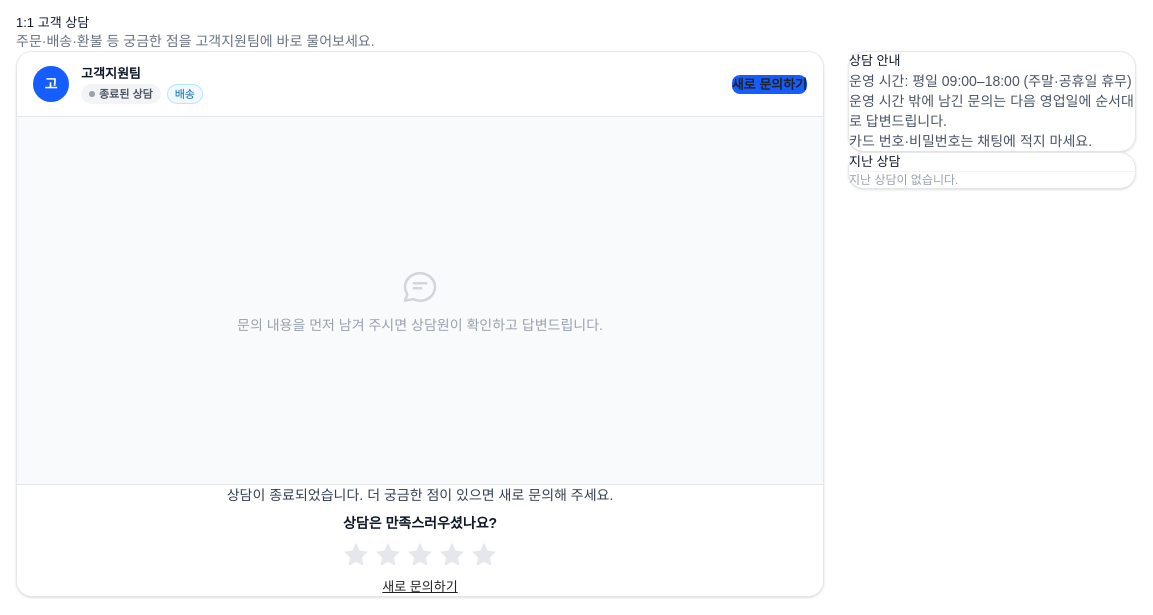
Scenario: SupportRoom — 고객 상담 화면 › '새로 문의하기' 를 누르면 유형을 다시 고르는 화면으로 간다(바로 열지 않는다)
The image size is (1153, 615).
Click the button "새로 문의하기" in the row of "종료된 상담" at (769, 84), box [732,75,807,94]
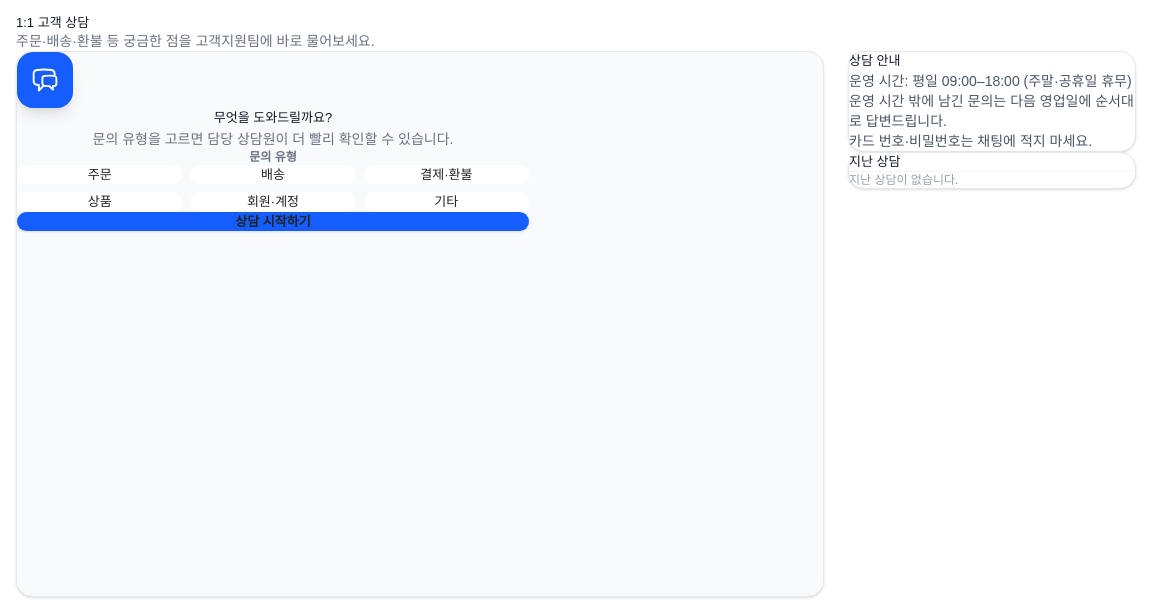
Result: the button "상담 시작하기" is shown at [17,212,529,231]
